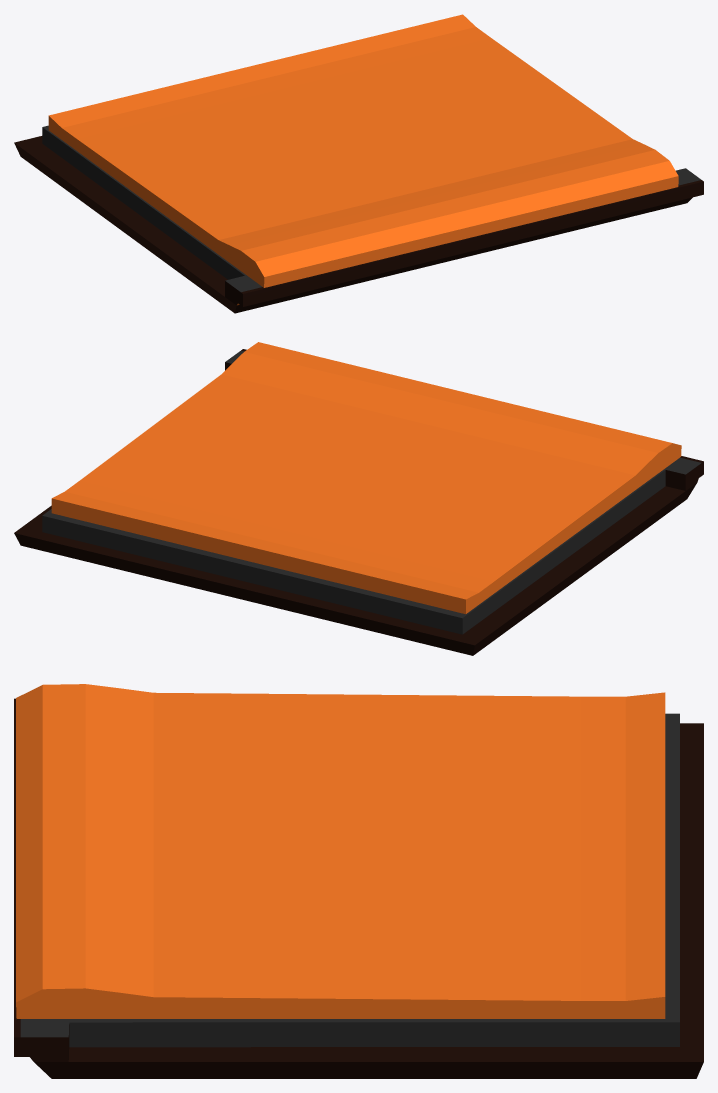
The model's file is BOOK_DOWN.fbx.
3 renders of one model, top to bottom at view 1: azimuth 30°, elevation 25°; view 2: azimuth 150°, elevation 25°; view 3: azimuth 270°, elevation 25°, orthographic. The views are drawn at different scales.
Visible parts, largest first — view 1: Page1; view 2: Page1; view 3: Page1.
Part boxes in pixels (x1,y1,x2,y2): Page1: (14,14,703,313); Page1: (14,342,703,655); Page1: (14,684,703,1078).
Size of the model in its own units: 713 by 80.72 by 614.
